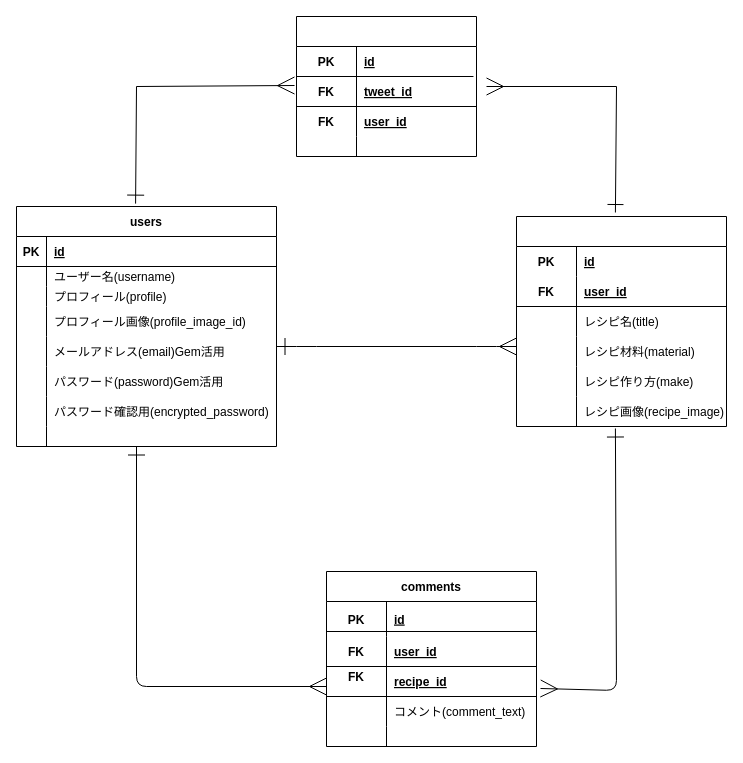
Some shapes in this 743 by 763 pixel diagram are drawn without their labels. The box of each missing label's shape, as (x1, y1, x2, y2) in pixels:
favorites: (296, 16, 476, 156)
recipes: (516, 216, 726, 426)
